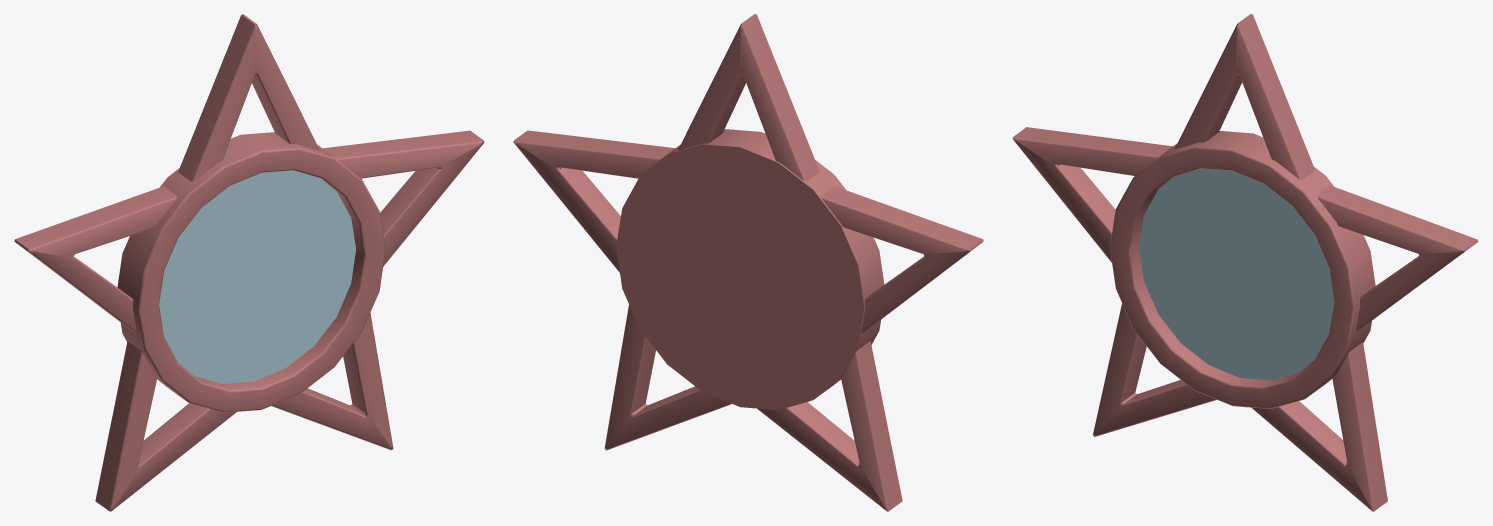
The model's file is Mirror_4.glb.
3 views of the same model, side by side, from view 1: azimuth 30°, elevation 25°; view 2: azimuth 150°, elevation 25°; view 3: azimuth 330°, elevation 25° (orthographic).
Visible parts, largest first — view 1: Mirror_4; view 2: Mirror_4; view 3: Mirror_4.
Part boxes in pixels (x1,y1,x2,y2): Mirror_4: (14,14,484,511); Mirror_4: (513,14,983,511); Mirror_4: (1012,14,1478,511).
Size of the model in its own units: 0.8786 by 0.8447 by 0.0741.
Materials: 1 (1 with a texture image).
